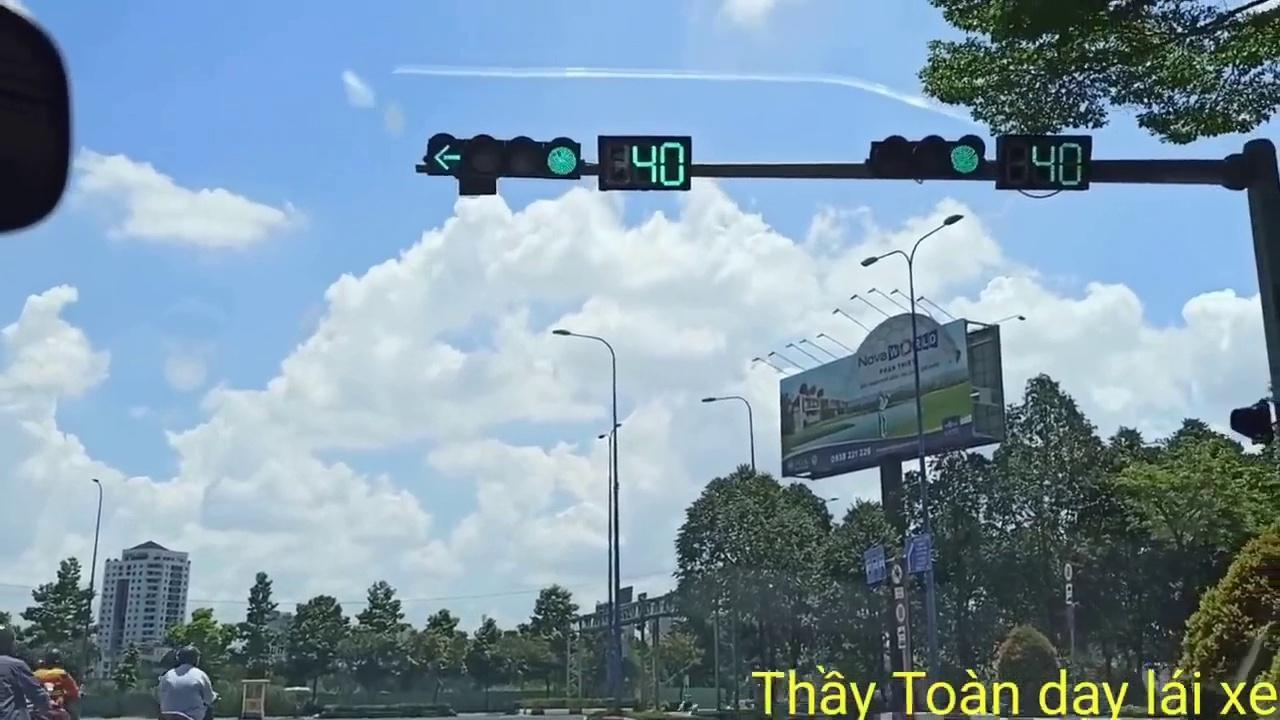Biển phụ: (896, 625, 908, 649), (1065, 584, 1074, 604)
Chỉ hướng đường: (902, 534, 934, 573)
Cấm xe máy: (889, 562, 905, 586)
Làn đường cho từng xe: (862, 544, 888, 584)
